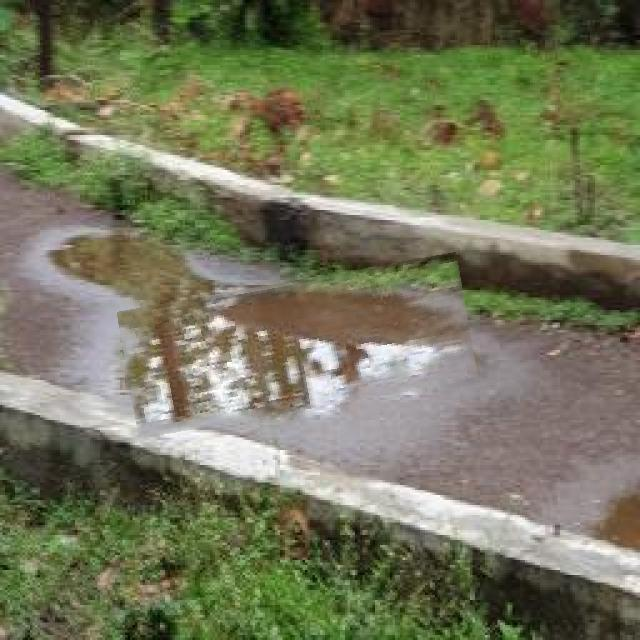puddle: (122, 268, 475, 425)
